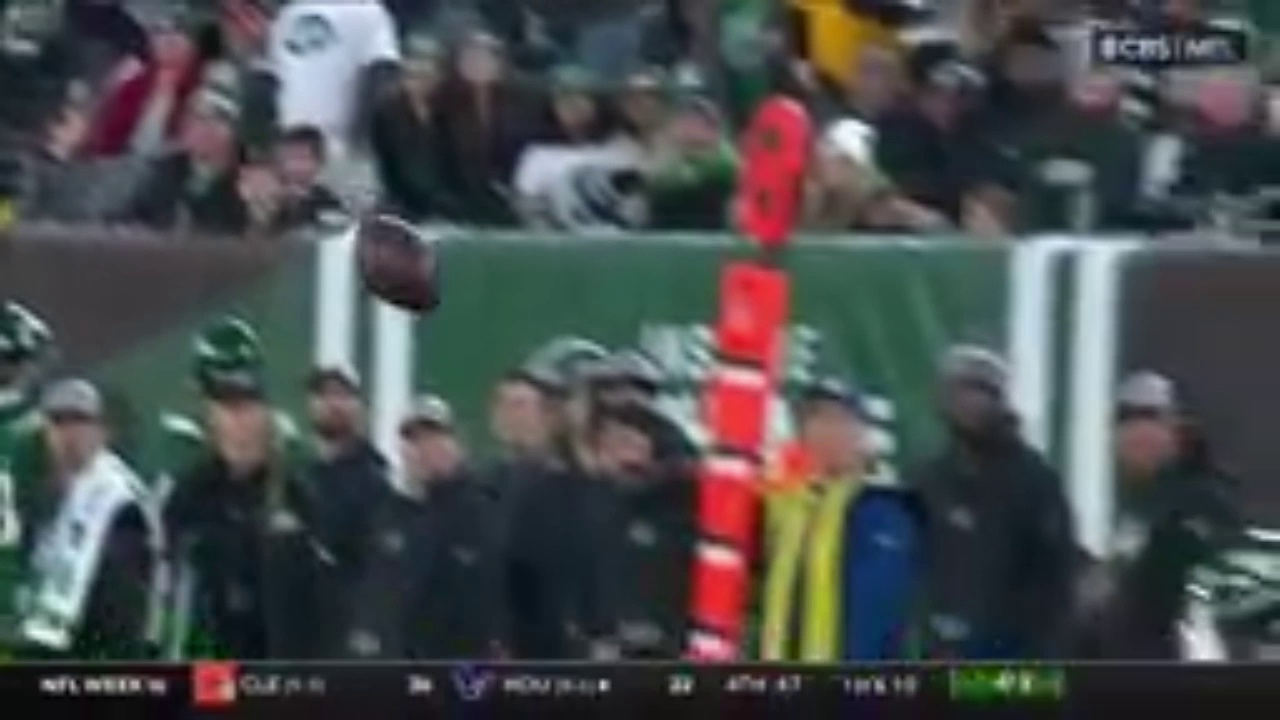football: (355, 222, 445, 312)
